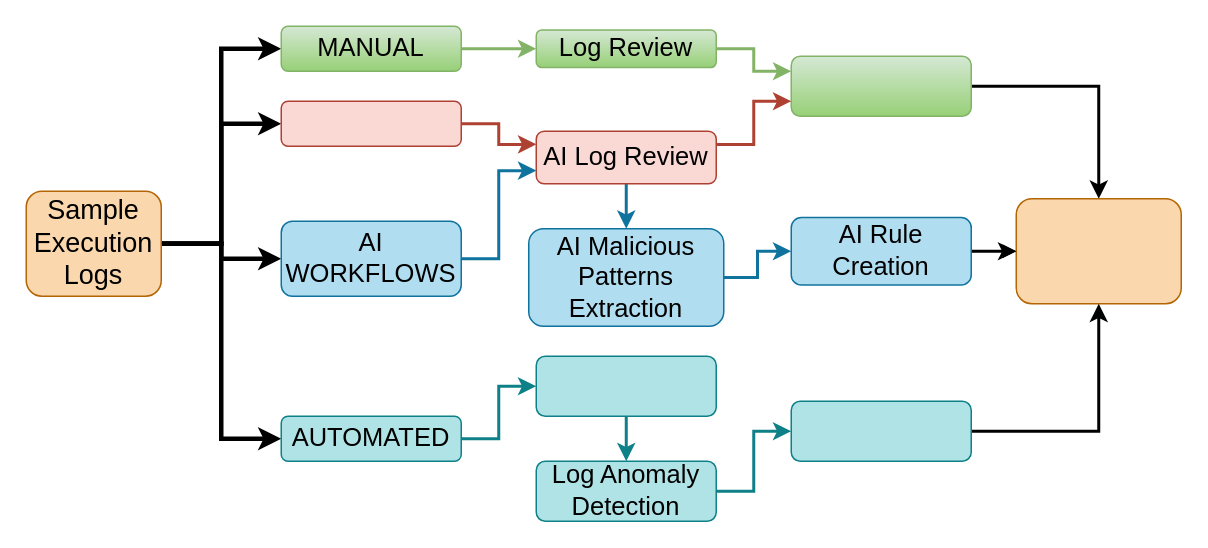
The diagram is 1208 pixels wide and 548 high, and some of its shapes have lost their labels. Each missing label, with the box of its shape:
AI + MANUAL: (280, 100, 461, 146)
Isolation Forest ML Training: (535, 355, 716, 416)
Manual Rule Creation: (790, 55, 971, 116)
Rule Creation via Templating: (790, 400, 971, 461)
Rules Configured in SIEM: (1015, 197, 1181, 304)
